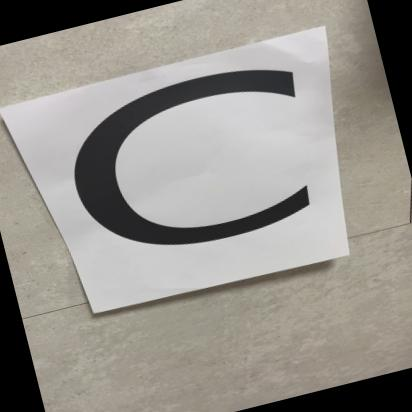seat: (15, 34, 367, 316)
